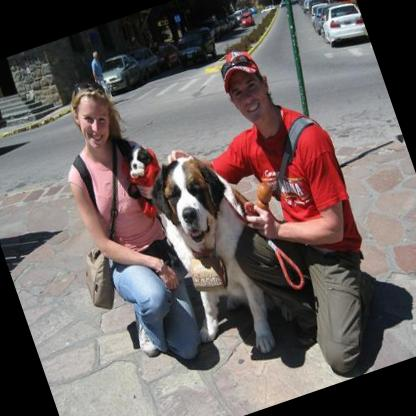Saint_Bernard: (143, 144, 290, 369)
